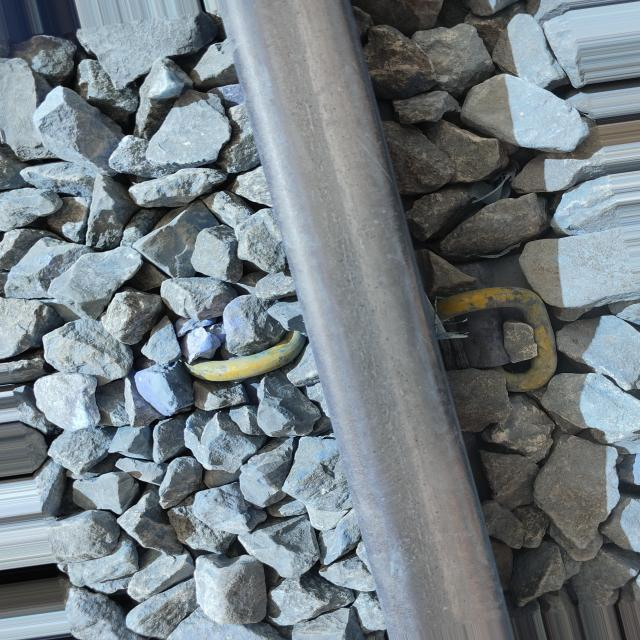Good Fasteners: (434, 277, 605, 427), (145, 289, 323, 418)
